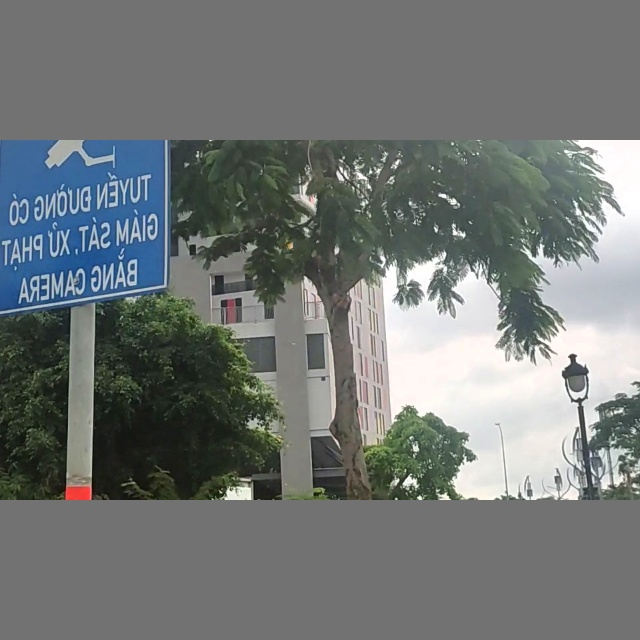Camera: (1, 141, 167, 311)
